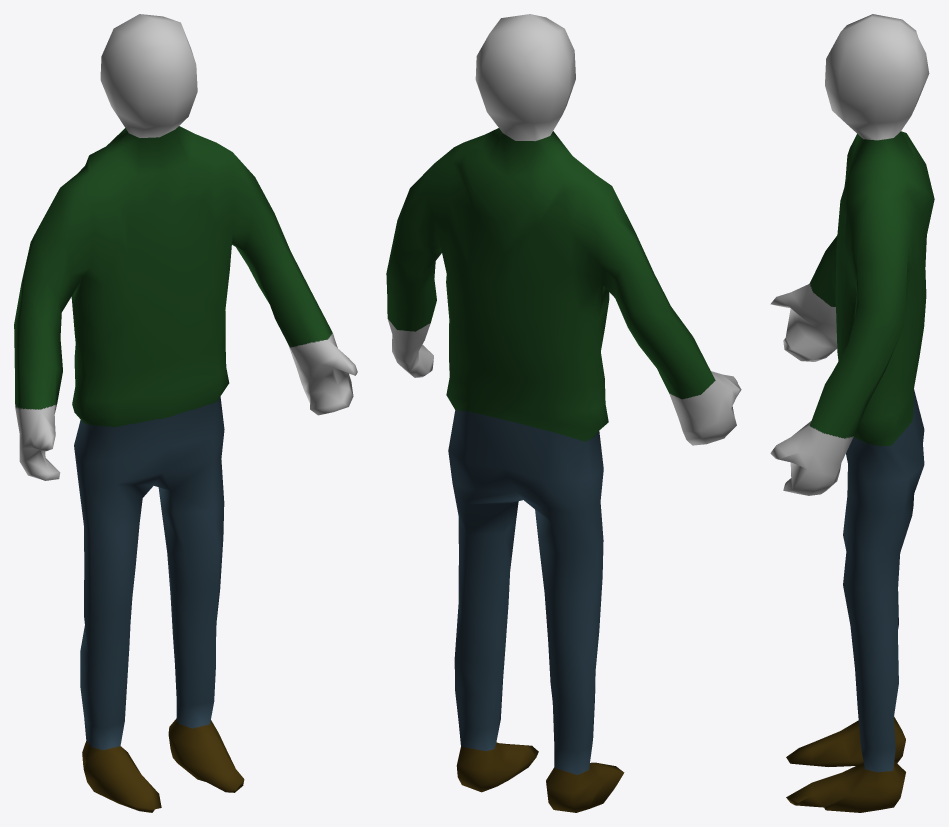
The model's file is PartyMensch123_mesh.fbx.
The picture shows the model from 3 angles, left to right: view 1: azimuth 30°, elevation 25°; view 2: azimuth 150°, elevation 25°; view 3: azimuth 270°, elevation 25°; orthographic projection. The views are drawn at different scales.
Visible parts, largest first — view 1: PartyMensch1_maya; view 2: PartyMensch1_maya; view 3: PartyMensch1_maya.
Part boxes in pixels (left/top/right/bottom): PartyMensch1_maya: left=14, top=14, right=357, bottom=812; PartyMensch1_maya: left=386, top=14, right=741, bottom=812; PartyMensch1_maya: left=770, top=14, right=934, bottom=812.
Bounding box in the file's own units: 81.87 × 181 × 35.24.
1 material, 1 textured.
